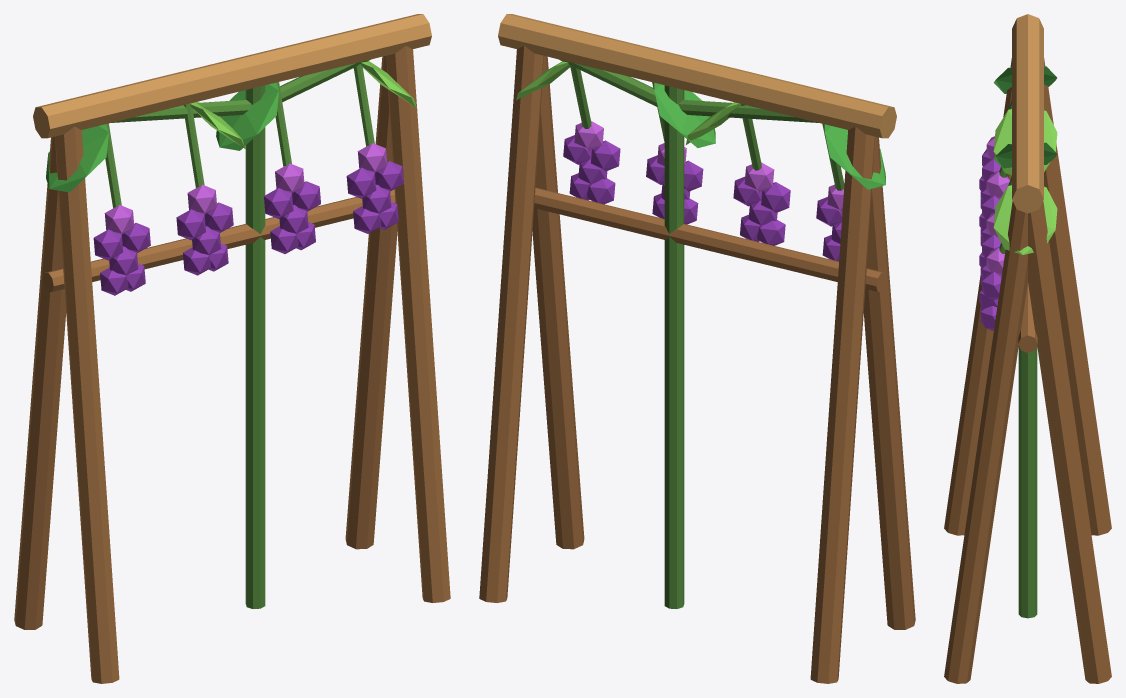
The model's file is Grape.glb.
3 views of the same model, side by side, from view 1: azimuth 30°, elevation 25°; view 2: azimuth 150°, elevation 25°; view 3: azimuth 270°, elevation 25° (orthographic). The views are drawn at different scales.
Visible parts, largest first — view 1: FTF_Plant_Grape_Trellis_Mature_Mesh; view 2: FTF_Plant_Grape_Trellis_Mature_Mesh; view 3: FTF_Plant_Grape_Trellis_Mature_Mesh.
Boxes of the visible parts, bbox=[...] form: FTF_Plant_Grape_Trellis_Mature_Mesh: bbox=[14, 14, 450, 683]; FTF_Plant_Grape_Trellis_Mature_Mesh: bbox=[479, 14, 915, 683]; FTF_Plant_Grape_Trellis_Mature_Mesh: bbox=[944, 14, 1111, 683].
Bounding box in the file's own units: 1.66 × 2.29 × 0.6891.
